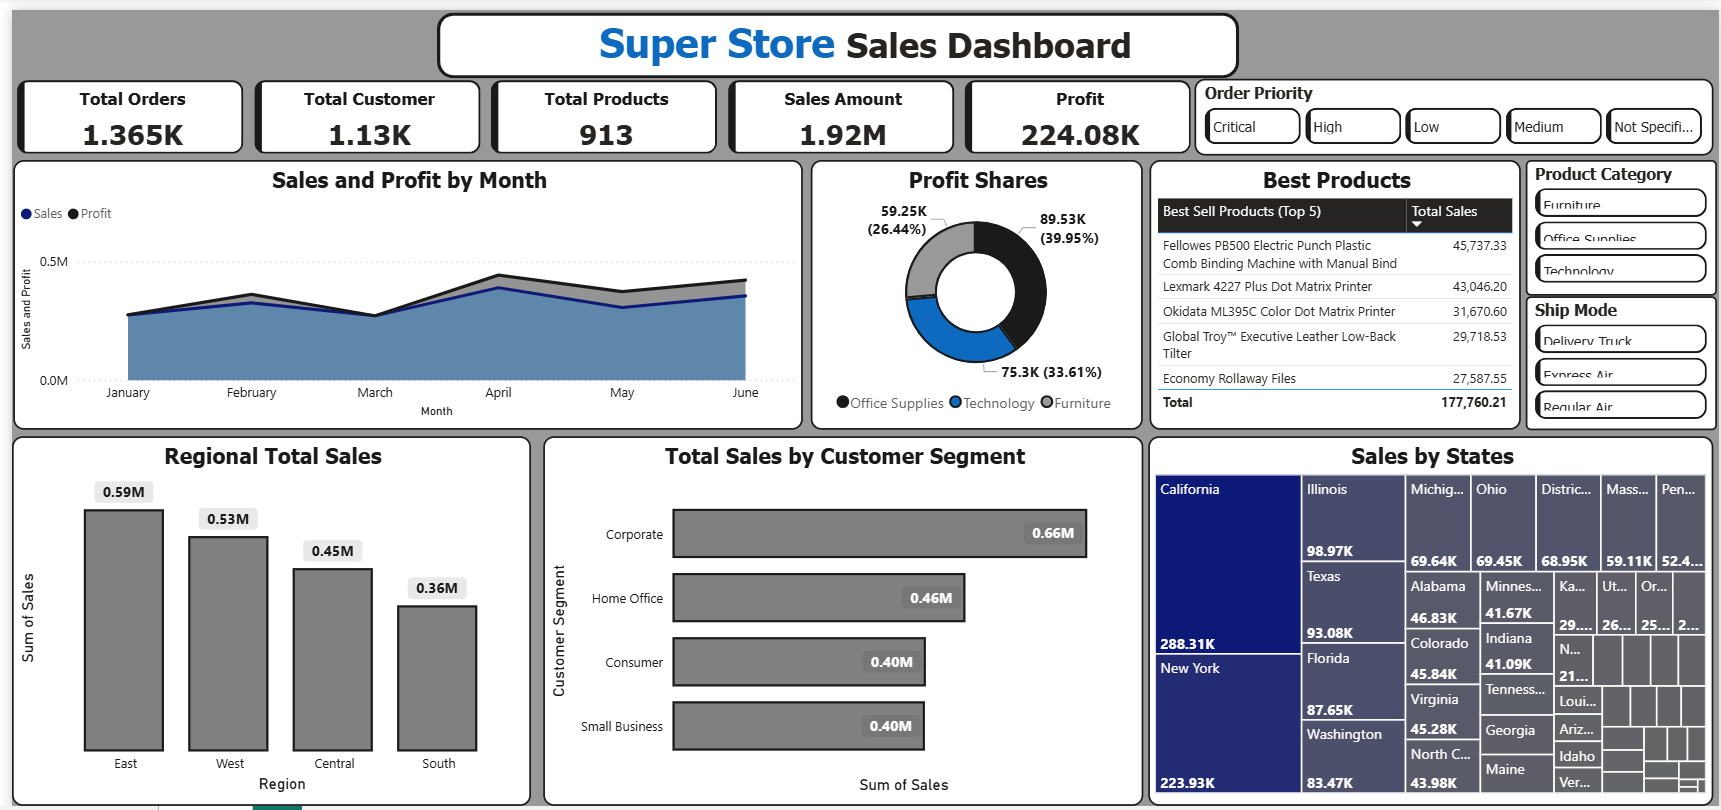

Layout of this report page (visuals, bound fields, positions):
{"tool":"powerbi","page":{"name":"Page 1","canvas":[1600,750],"ordinal":0},"visuals":[{"type":"cardVisual","fields":{"Data":["Count(Orders.Order ID)","Count(Orders.Customer ID)","Orders.Total Products","Sum(Orders.Sales)","Sum(Orders.Profit)"]},"box":[0,60.7,1110.3,79.9],"z":0},{"type":"shape","box":[398.6,2.3,751.7,61.8],"z":1000},{"type":"textbox","box":[535,2.3,529.1,59.4],"z":2000},{"type":"stackedAreaChart","fields":{"Category":["Orders.Order Date.Variation.Date Hierarchy.Year","Orders.Order Date.Variation.Date Hierarchy.Quarter","Orders.Order Date.Variation.Date Hierarchy.Month","Orders.Order Date.Variation.Date Hierarchy.Day"],"Y":["Sum(Orders.Sales)","Sum(Orders.Profit)"]},"box":[1.5,140.6,740.2,253.1],"z":3000},{"type":"columnChart","title":"Regional Total Sales","fields":{"Category":["Orders.Region"],"Y":["Sum(Orders.Sales)"]},"box":[0,399.8,486,346.2],"z":4000},{"type":"donutChart","title":"Profit Shares","fields":{"Category":["Orders.Product Category"],"Y":["Sum(Orders.Profit)"]},"box":[749.1,140.6,310.9,253.1],"z":5000},{"type":"clusteredBarChart","title":"Total Sales by Customer Segment","fields":{"Category":["Orders.Customer Segment"],"Y":["Sum(Orders.Sales)"]},"box":[497.4,399.7,562.5,346.4],"z":6000},{"type":"treemap","title":"Sales by States","fields":{"Group":["Orders.State or Province"],"Values":["Sum(Orders.Sales)"]},"box":[1064.4,399.7,530,346.4],"z":7000},{"type":"advancedSlicerVisual","fields":{"Values":["Orders.Product Category"]},"box":[1418.2,140.6,179.1,127.3],"z":8000},{"type":"advancedSlicerVisual","fields":{"Values":["Orders.Ship Mode"]},"box":[1418.2,267.9,179.1,125.8],"z":9000},{"type":"advancedSlicerVisual","fields":{"Values":["Orders.Order Priority"]},"box":[1108.6,63.9,486.5,71.7],"z":10000},{"type":"tableEx","title":"Best Products","fields":{"Values":["Orders.Product Name","Sum(Orders.Sales)"]},"box":[1065.5,140.9,348.2,253],"z":11000}]}

Visuals, with their boxes in screenshot pixels (x1, y1, x2, y2), scaled from the page's 1600x750 canvas onto the 1721x810 screenshot:
cardVisual - Count(Orders.Order ID) x Count(Orders.Customer ID): x1=0, y1=66, x2=1194, y2=152
shape: x1=429, y1=2, x2=1237, y2=69
textbox: x1=575, y1=2, x2=1145, y2=67
stackedAreaChart - Orders.Order Date.Variation.Date Hierarchy.Year x Orders.Order Date.Variation.Date Hierarchy.Quarter: x1=2, y1=152, x2=798, y2=425
"Regional Total Sales" columnChart: x1=0, y1=432, x2=523, y2=806
"Profit Shares" donutChart: x1=806, y1=152, x2=1140, y2=425
"Total Sales by Customer Segment" clusteredBarChart: x1=535, y1=432, x2=1140, y2=806
"Sales by States" treemap: x1=1145, y1=432, x2=1715, y2=806
advancedSlicerVisual - Orders.Product Category: x1=1525, y1=152, x2=1718, y2=289
advancedSlicerVisual - Orders.Ship Mode: x1=1525, y1=289, x2=1718, y2=425
advancedSlicerVisual - Orders.Order Priority: x1=1192, y1=69, x2=1716, y2=146
"Best Products" tableEx: x1=1146, y1=152, x2=1521, y2=425
